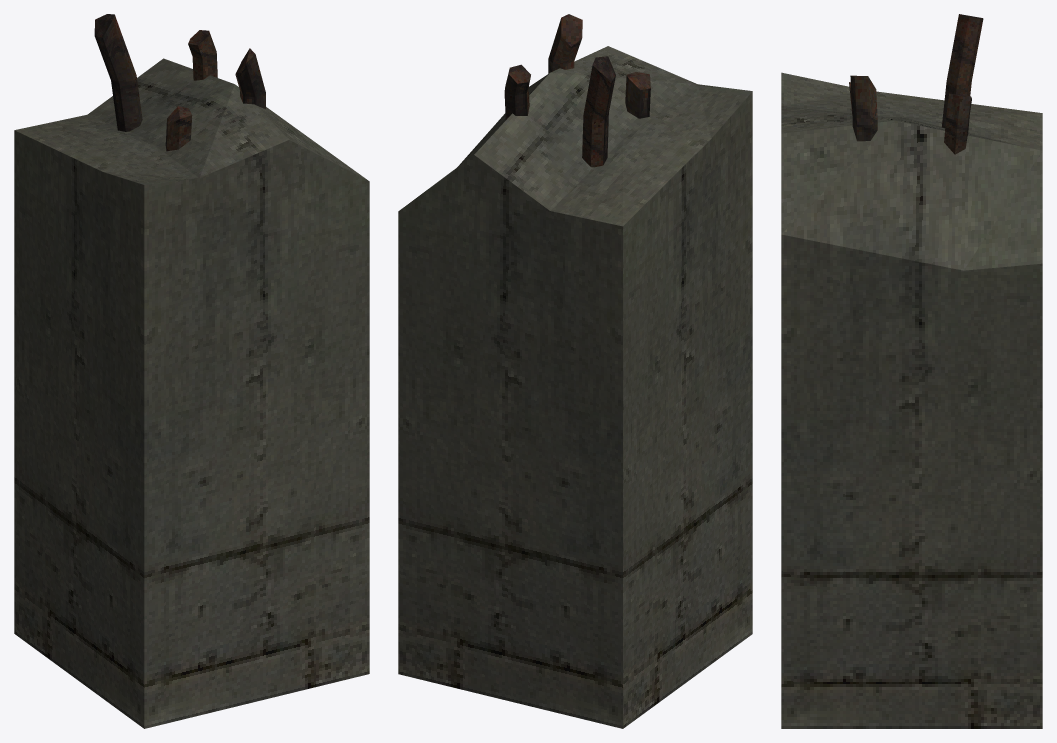
File: pillar_rg_1_broken.glb
3 renders of one model, left to right at view 1: azimuth 30°, elevation 25°; view 2: azimuth 150°, elevation 25°; view 3: azimuth 270°, elevation 25°, orthographic.
Visible parts, largest first — view 1: pillar_rg_1_broken; view 2: pillar_rg_1_broken; view 3: pillar_rg_1_broken.
Boxes of the visible parts, box(x1,y1,x2,y2) form: pillar_rg_1_broken: box(14, 14, 369, 728); pillar_rg_1_broken: box(398, 14, 752, 728); pillar_rg_1_broken: box(781, 14, 1042, 728).
Size of the model in its own units: 0.6 by 1.6 by 0.6.
Materials: 2 (2 with a texture image).
